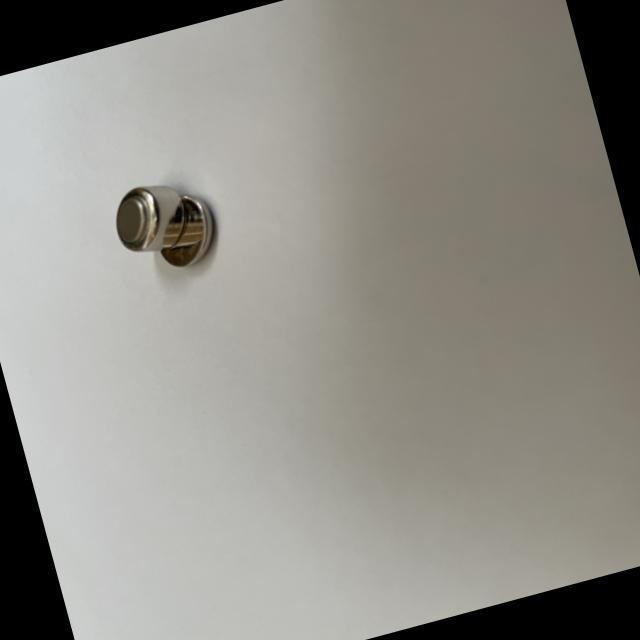COIN: (106, 174, 194, 259), (146, 188, 224, 273)
